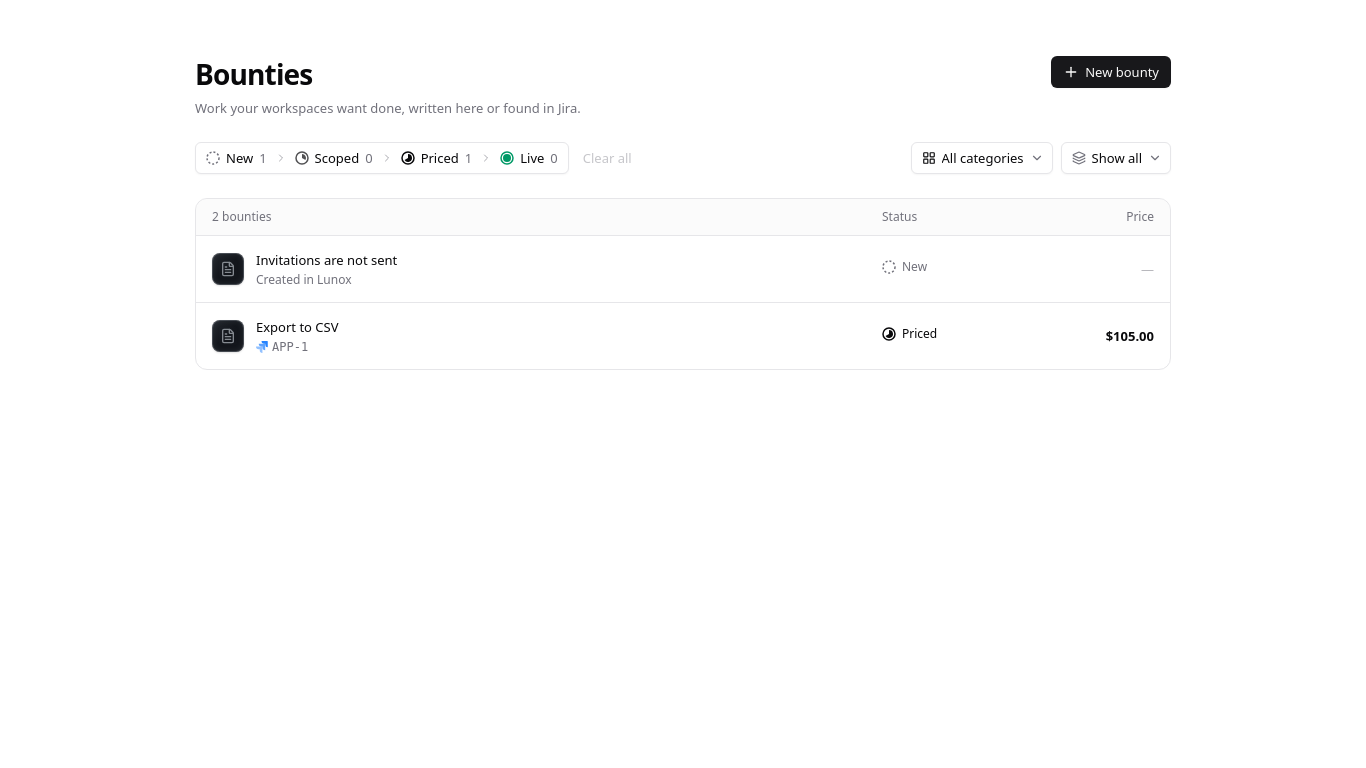
the list filters by how far its bounties have got, as its Status column says
This screenshot has width=1366, height=768.
Click the button "Priced 1".
click(436, 158)  # box x1=393 y1=145 x2=480 y2=171
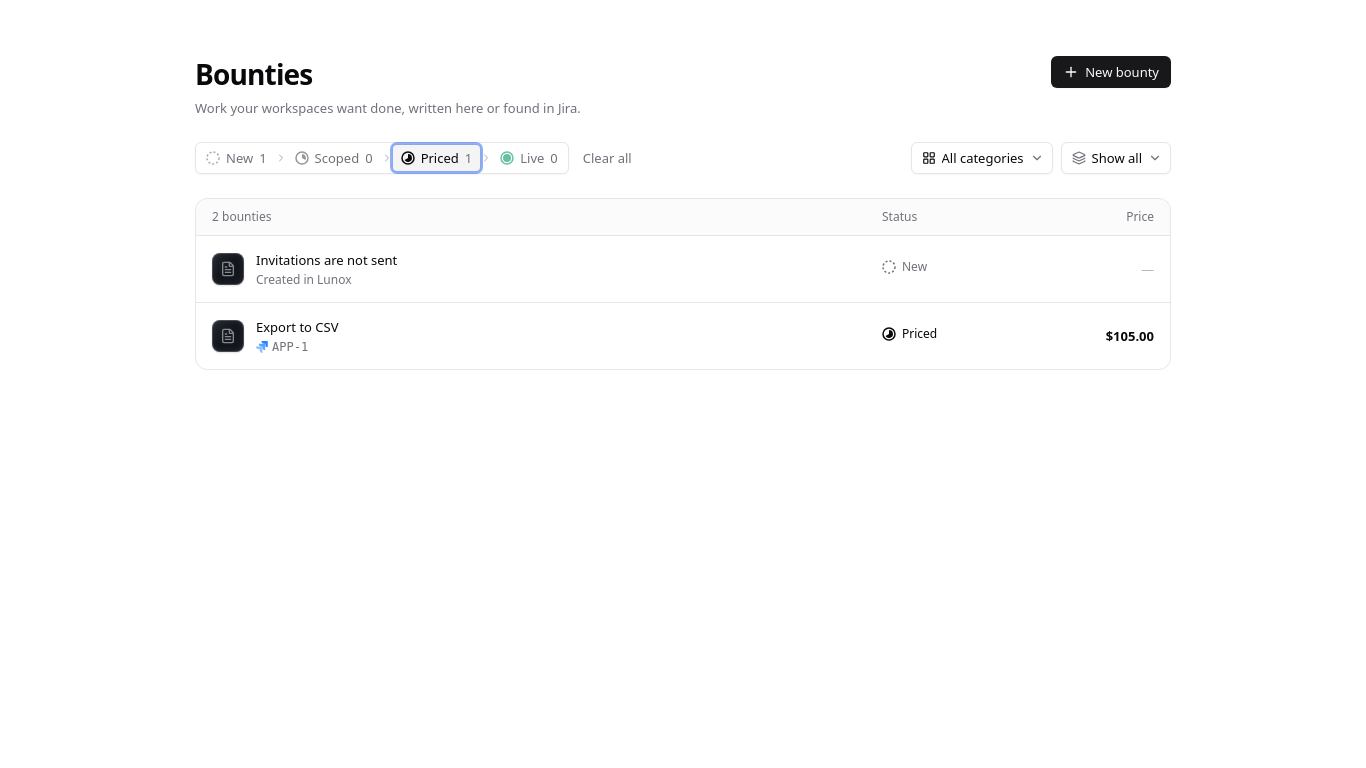
Result: the button "Priced 1" is pressed
Click the button "Priced 1".
click(436, 158)  # box x1=393 y1=145 x2=480 y2=171
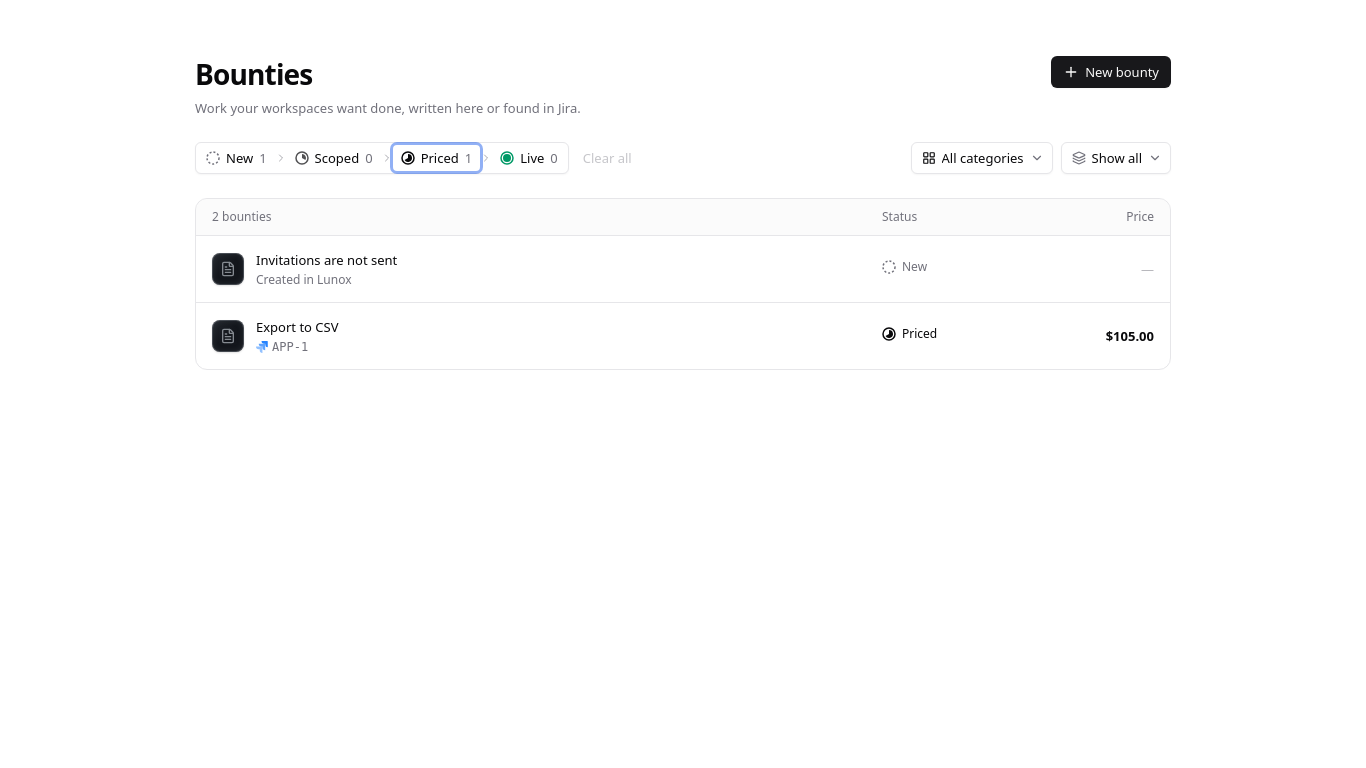
Result: the button "Clear all" is disabled at x1=577 y1=142 x2=638 y2=174
Click the button "Live 0".
click(529, 158)  # box x1=492 y1=145 x2=566 y2=171
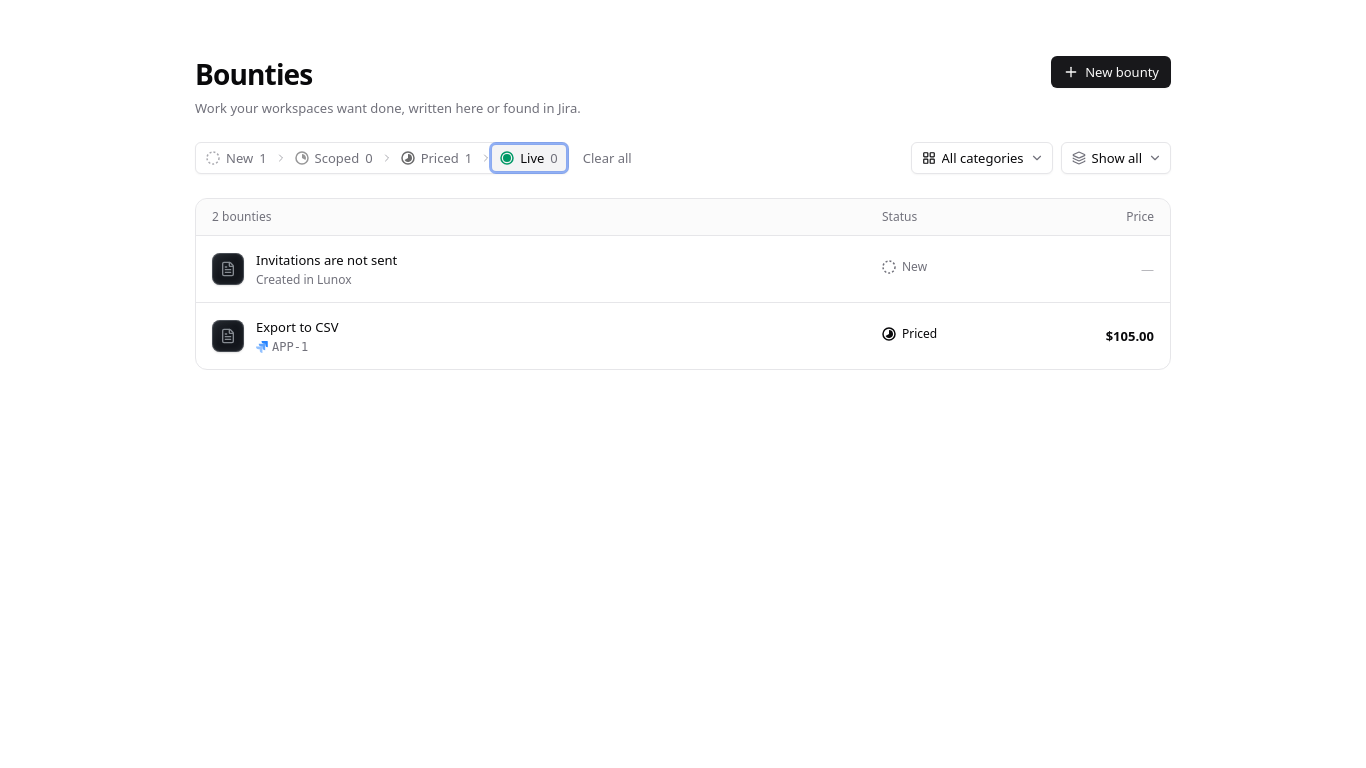
Click the dropdown named "Category".
click(982, 158)  # box x1=912 y1=143 x2=1052 y2=173
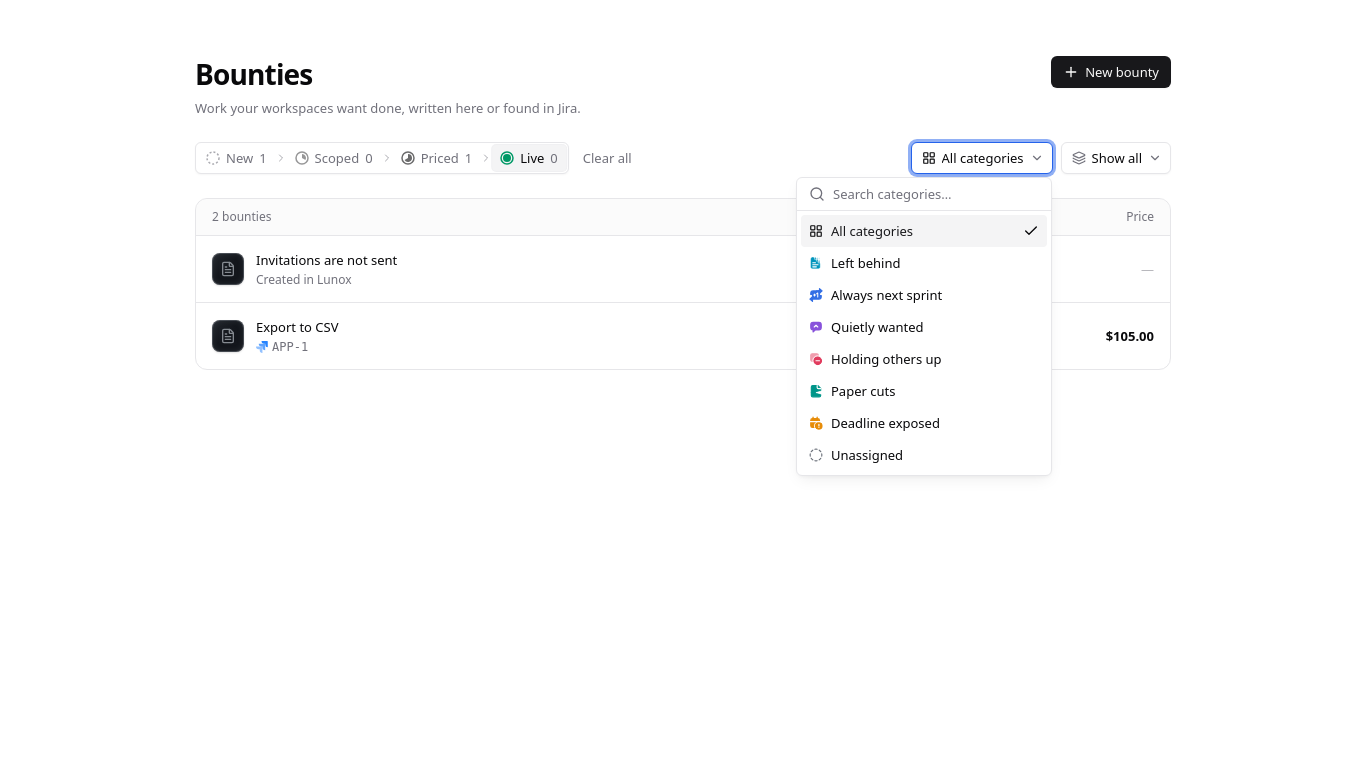
Click the option "Unassigned".
click(856, 455)  # box x1=809 y1=446 x2=903 y2=464
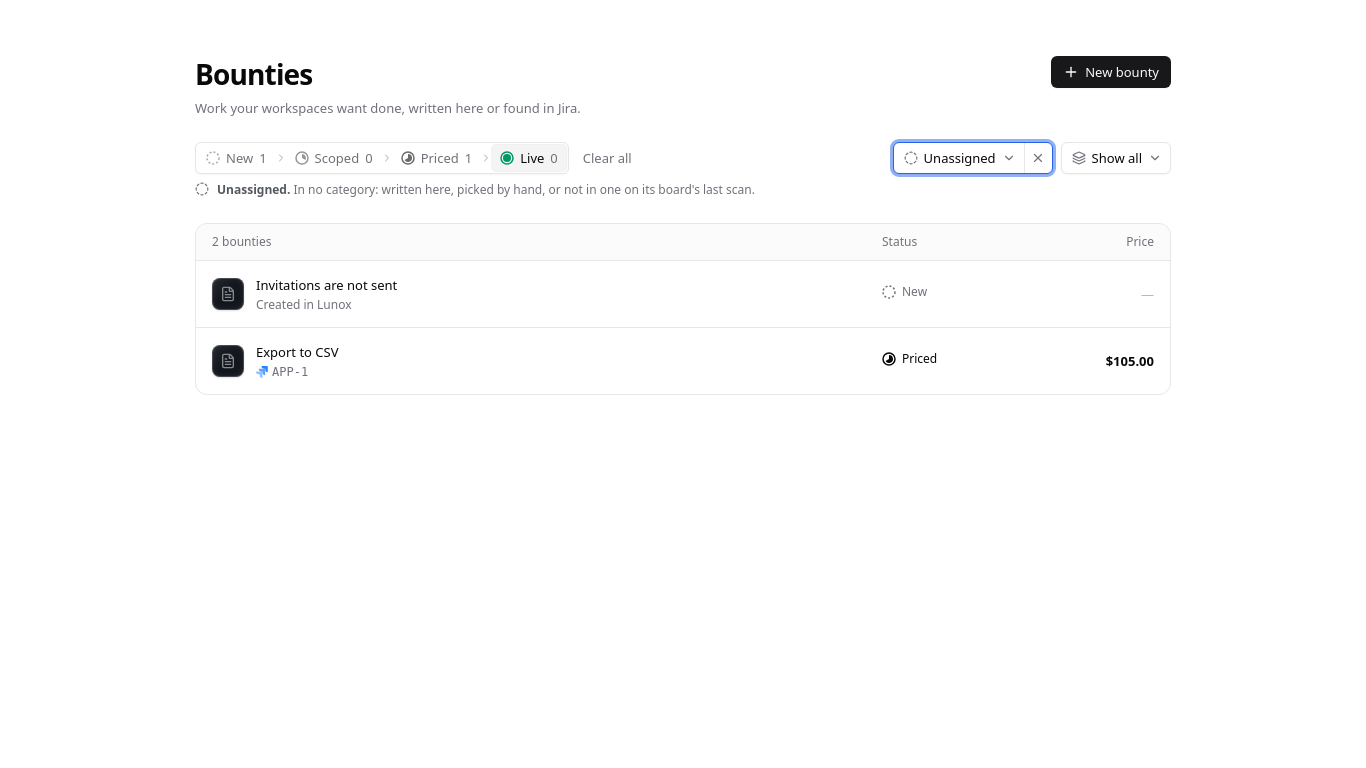
Result: the button "Clear all" is enabled
Click the button "Clear all".
click(607, 158)  # box x1=577 y1=142 x2=638 y2=174
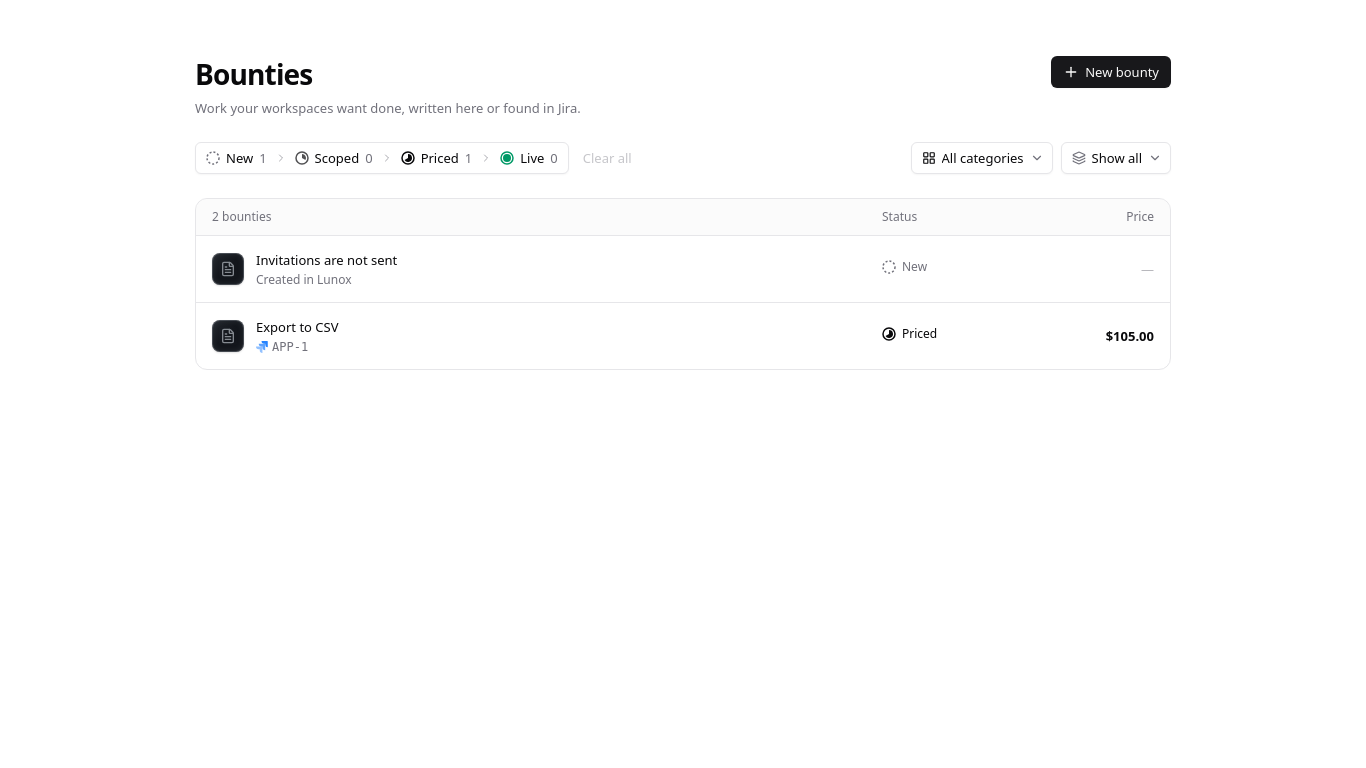
Result: the button "Clear all" is disabled at x1=577 y1=142 x2=638 y2=174
